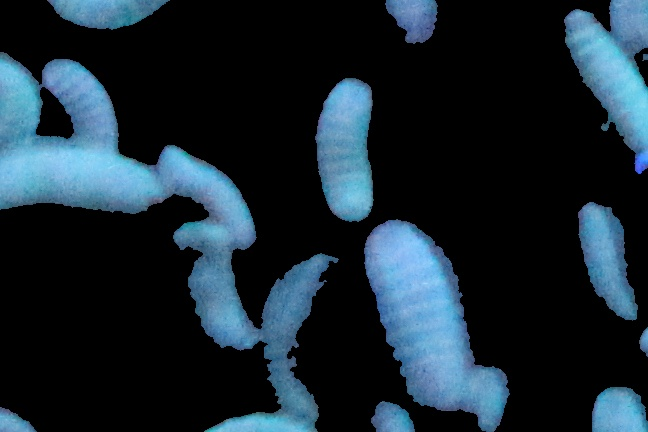larvae: (363, 219, 479, 405), (566, 10, 648, 152), (258, 253, 330, 411), (175, 224, 259, 352), (1, 153, 163, 219), (315, 75, 376, 220), (165, 144, 254, 241), (573, 202, 639, 324), (39, 55, 116, 147), (1, 53, 39, 156), (44, 1, 171, 29), (389, 1, 471, 43)
